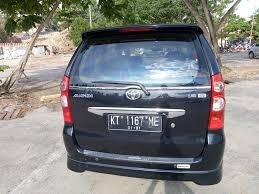plate: (108, 114, 163, 132)
